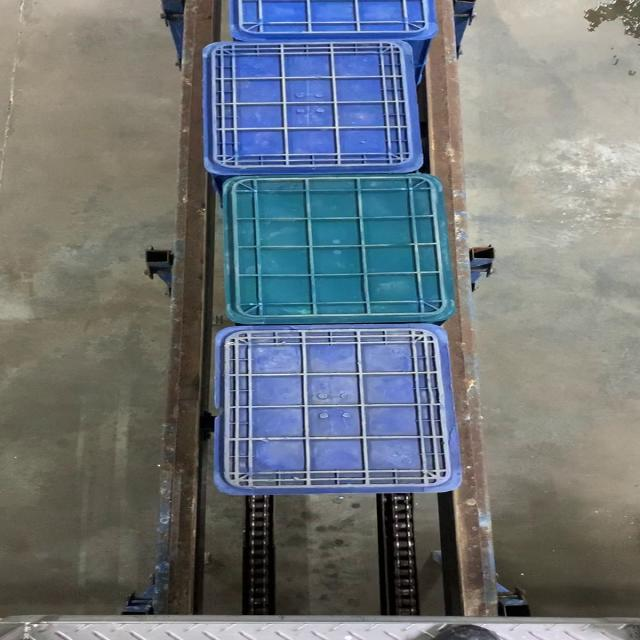Box: (207, 327, 466, 492), (222, 174, 452, 324), (204, 39, 424, 174)
